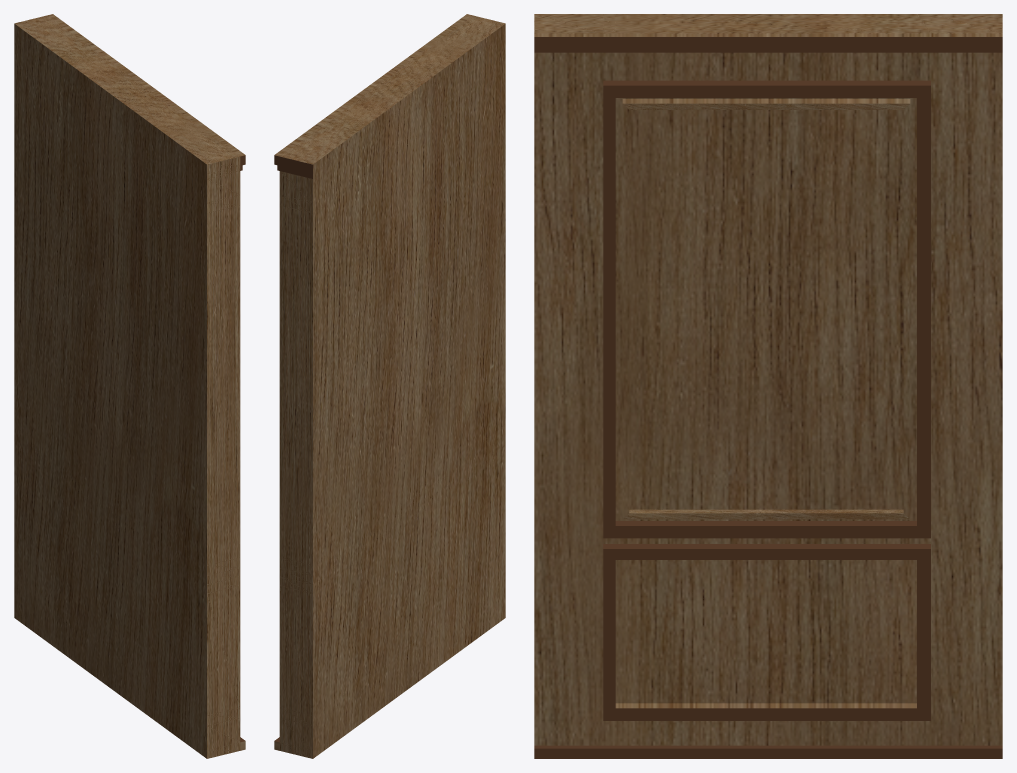
Rendered from Arch_WallA.fbx.
3 views of the same model, side by side, from view 1: azimuth 30°, elevation 25°; view 2: azimuth 150°, elevation 25°; view 3: azimuth 270°, elevation 25° (orthographic). The views are drawn at different scales.
Parts seen in each view (by area): view 1: WallA; view 2: WallA; view 3: WallA.
Part boxes in pixels (x1,y1,x2,y2): WallA: (14, 14, 245, 758); WallA: (274, 14, 505, 758); WallA: (534, 14, 1002, 758).
Size of the model in its own units: 25.11 by 340 by 200.
